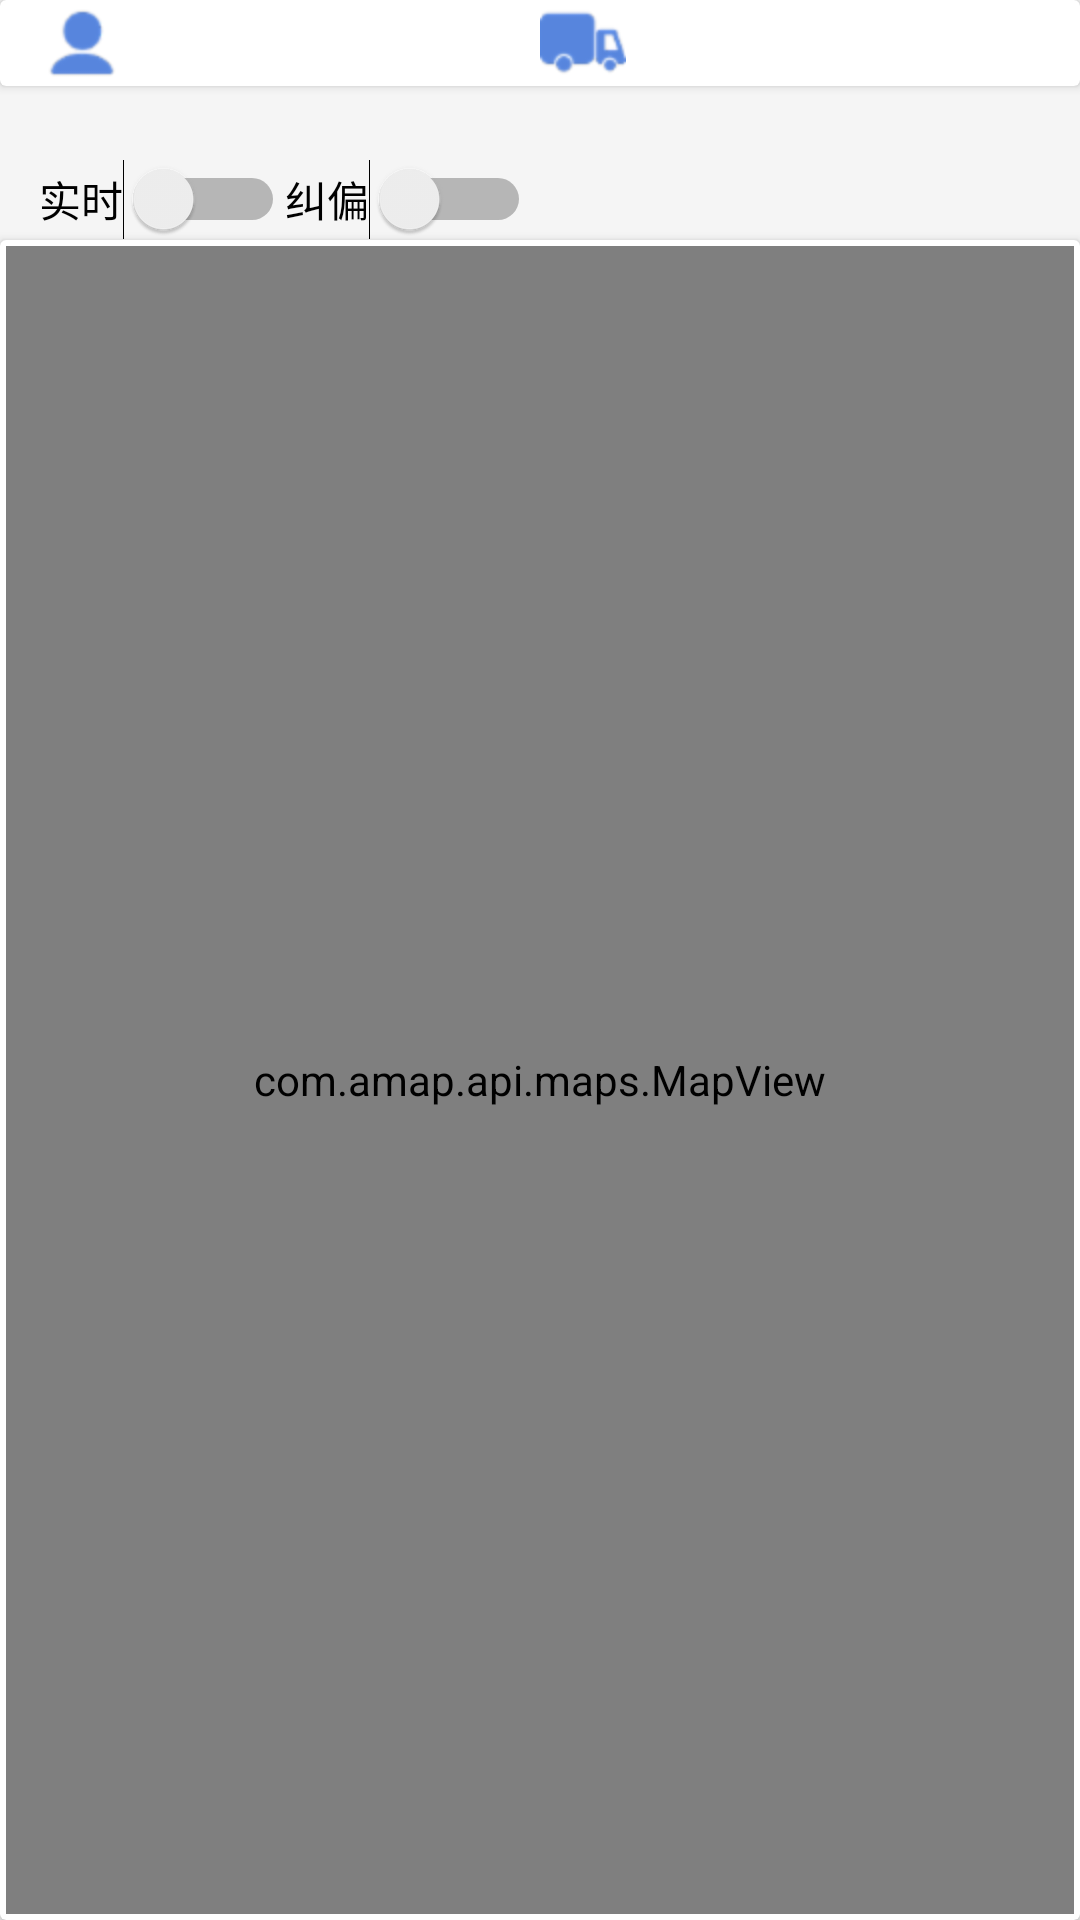

Locate icon controls on the screen. Image size 1080w x 1920h, boxes as (x1, y1, x2, y2).
pathtrail plate: (540, 12, 626, 73)
pathtrail user: (50, 11, 114, 75)
